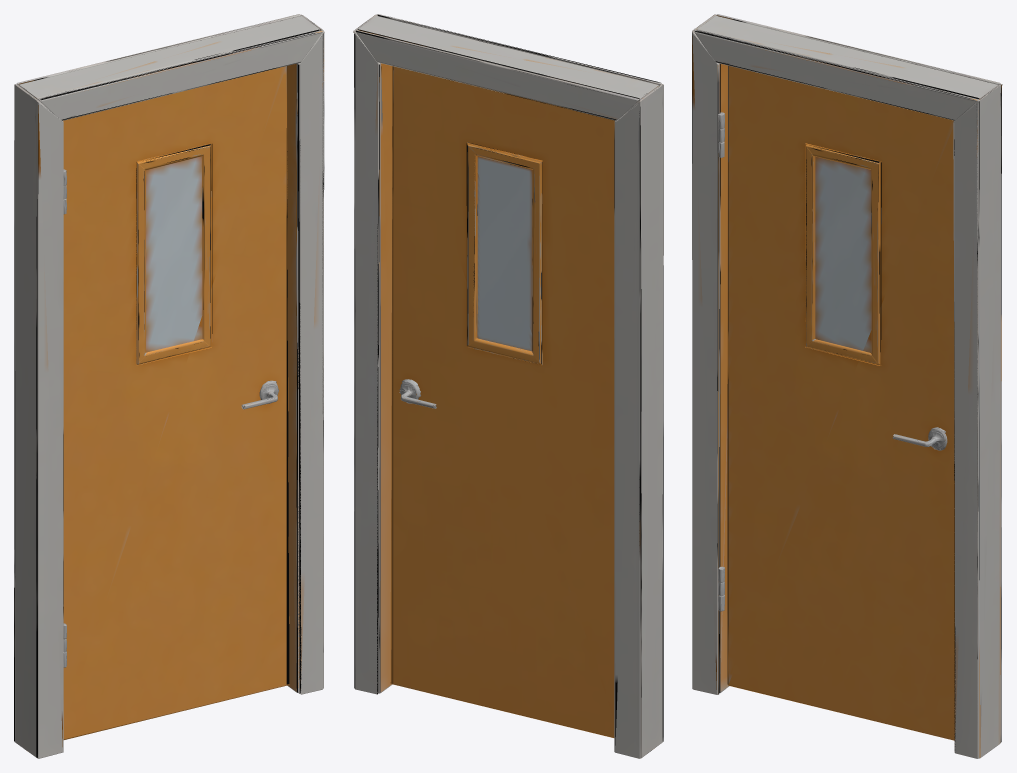
The model's file is ClassroomDoor.glb.
The picture shows the model from 3 angles, left to right: view 1: azimuth 30°, elevation 25°; view 2: azimuth 150°, elevation 25°; view 3: azimuth 330°, elevation 25°; orthographic projection.
Visible parts, largest first — view 1: geometry_0; view 2: geometry_0; view 3: geometry_0.
Part boxes in pixels (x1,y1,x2,y2): geometry_0: (14,14,324,758); geometry_0: (353,14,663,758); geometry_0: (692,14,1002,758).
Size of the model in its own units: 0.4346 by 0.9507 by 0.0747.
1 material, 1 textured.
